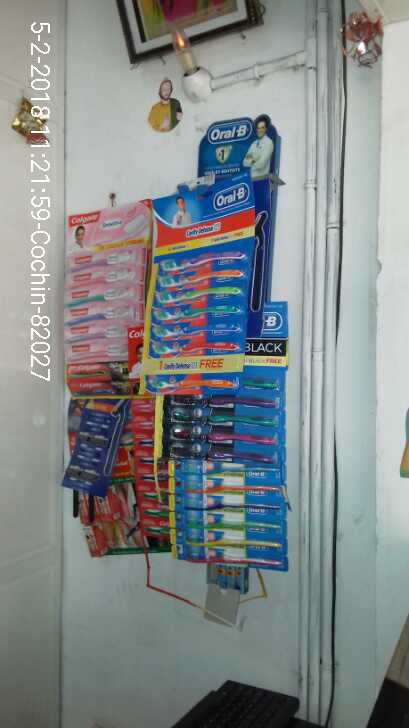oralb: (152, 265, 249, 289), (156, 250, 251, 271), (152, 286, 247, 304)
